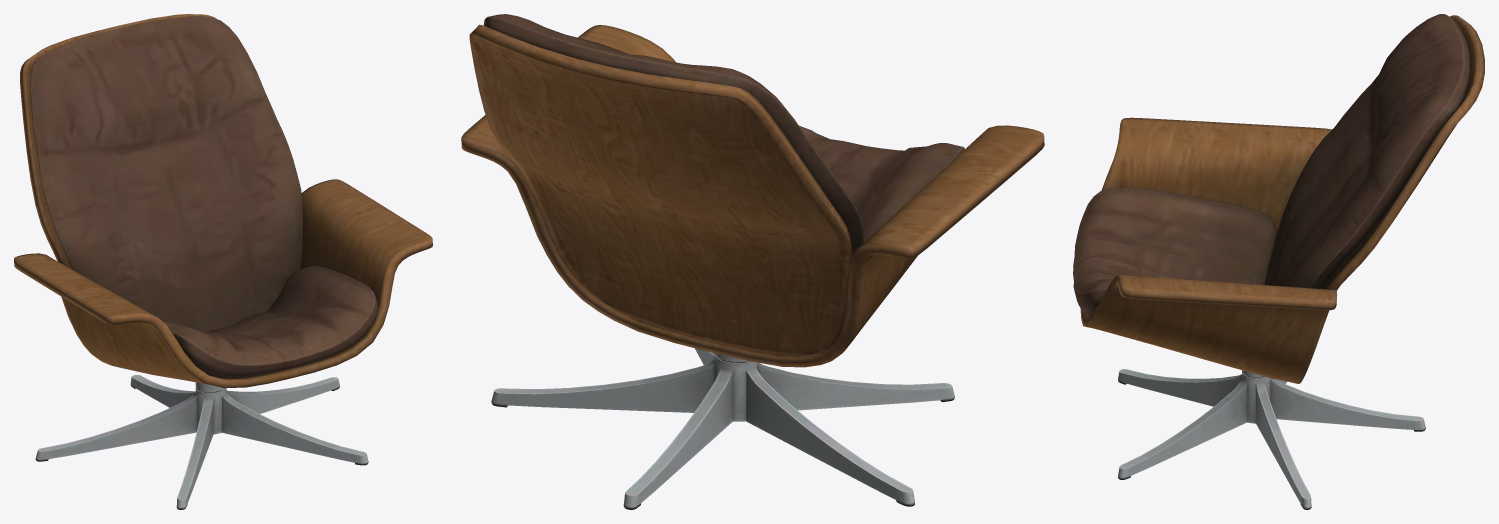
The model's file is ph-mid-century-lounge-chair.glb.
3 renders of one model, left to right at view 1: azimuth 30°, elevation 25°; view 2: azimuth 150°, elevation 25°; view 3: azimuth 270°, elevation 25°, orthographic. The views are drawn at different scales.
Parts seen in each view (by area): view 1: mid_century_lounge_chair; view 2: mid_century_lounge_chair; view 3: mid_century_lounge_chair.
Boxes of the visible parts, bbox=[...] form: mid_century_lounge_chair: bbox=[14, 14, 432, 509]; mid_century_lounge_chair: bbox=[461, 14, 1044, 509]; mid_century_lounge_chair: bbox=[1073, 14, 1484, 509].
Size of the model in its own units: 1 by 1 by 1.
Materials: 1 (1 with a texture image).
